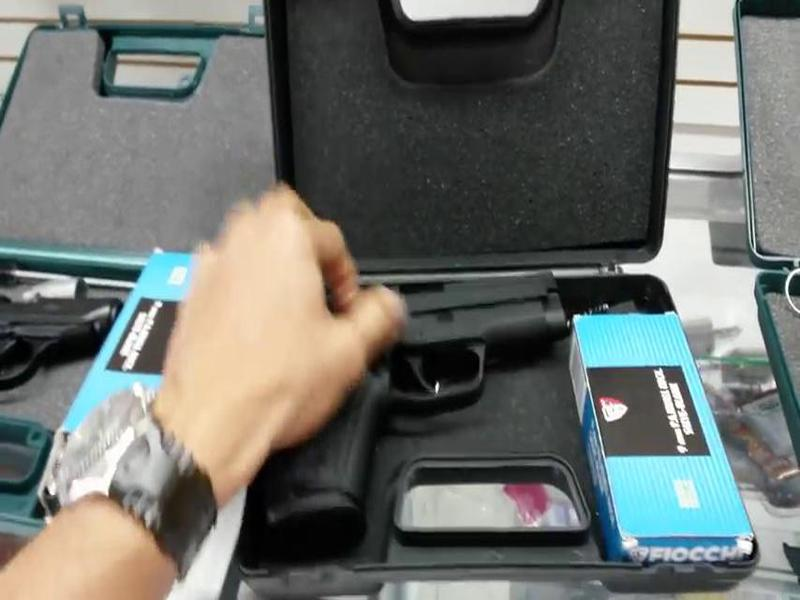Pistola: (259, 235, 593, 553)
